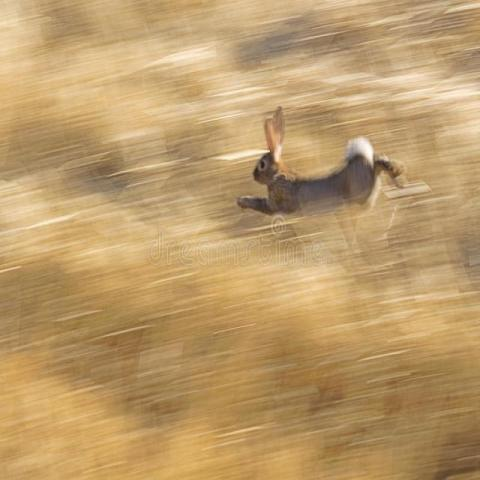small_animal: (233, 104, 408, 223)
